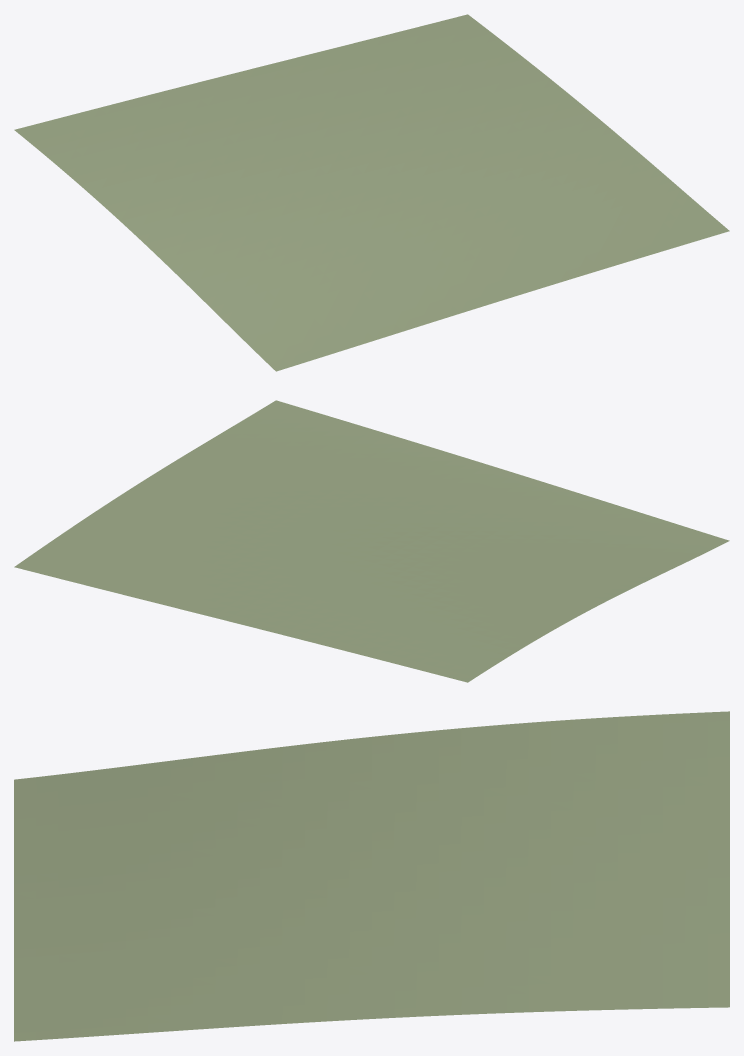
The model's file is desert-25-4.glb.
3 renders of one model, top to bottom at view 1: azimuth 30°, elevation 25°; view 2: azimuth 150°, elevation 25°; view 3: azimuth 270°, elevation 25°, orthographic. The views are drawn at different scales.
Visible parts, largest first — view 1: desert-25-4; view 2: desert-25-4; view 3: desert-25-4.
Part boxes in pixels (bbox=[...]): desert-25-4: bbox=[14, 14, 729, 371]; desert-25-4: bbox=[14, 400, 729, 682]; desert-25-4: bbox=[14, 711, 729, 1041].
Bounding box in the file's own units: 512 × 59 × 512.
